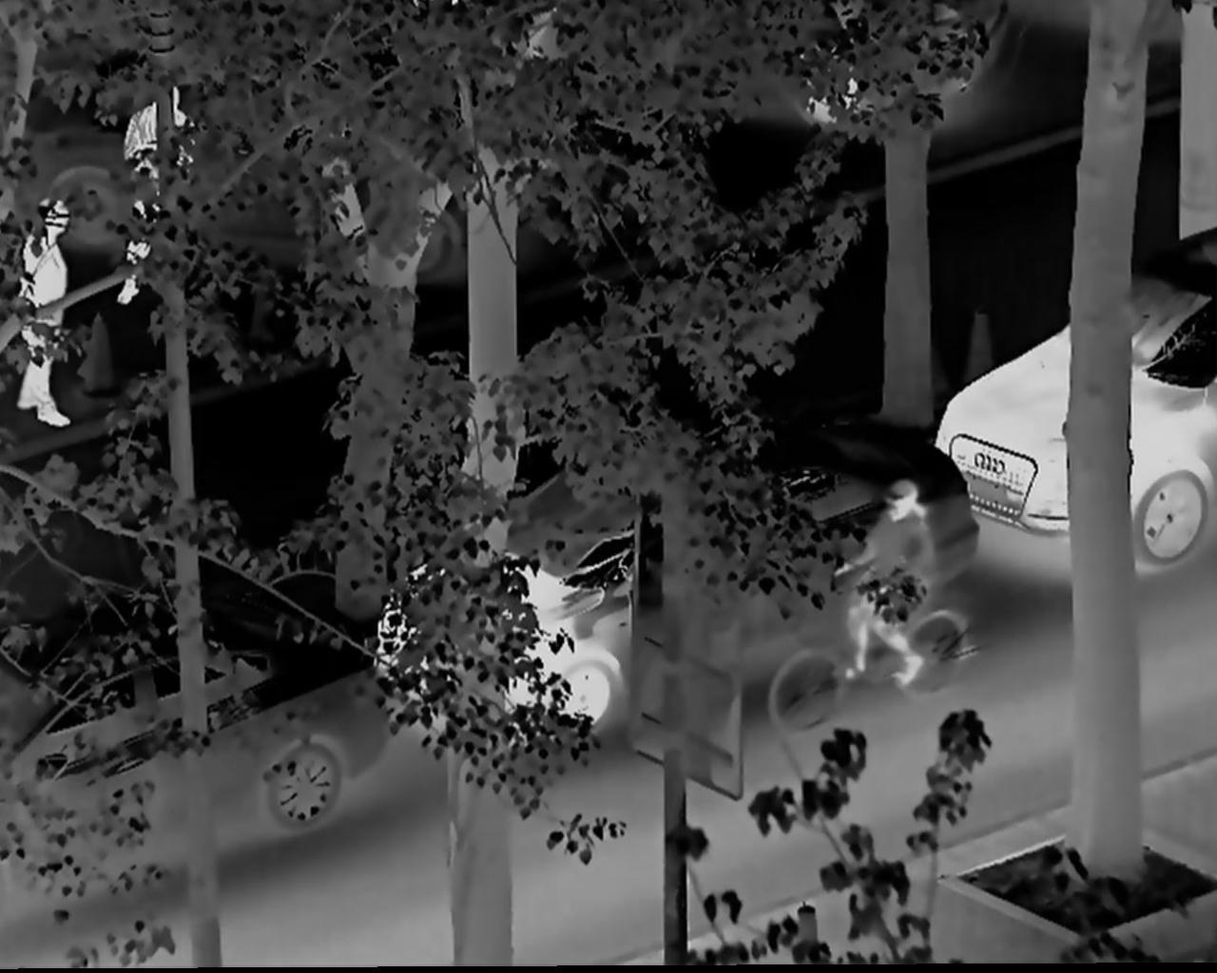person: (836, 472, 942, 694), (122, 86, 196, 302), (15, 199, 85, 421)
